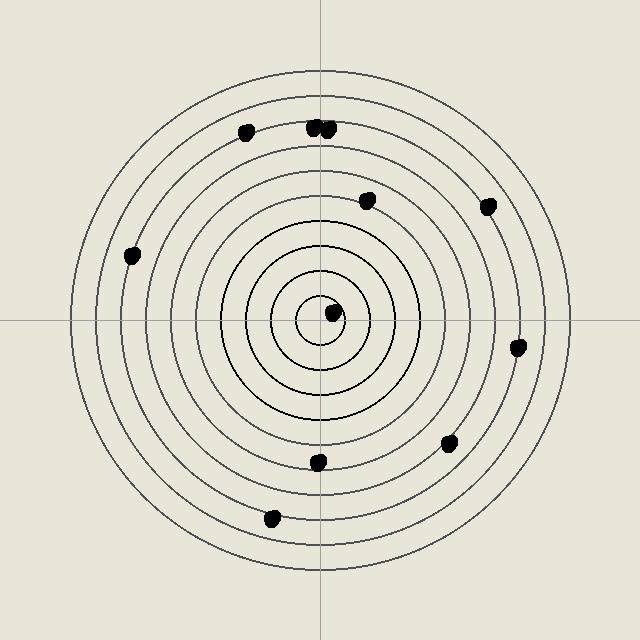random_scatter: (438, 433, 458, 453), (477, 196, 497, 216), (307, 452, 327, 472), (322, 302, 342, 322), (261, 508, 281, 528), (121, 245, 141, 265), (356, 190, 376, 210), (235, 122, 255, 142), (303, 117, 323, 137), (507, 337, 527, 357), (317, 119, 337, 139)
